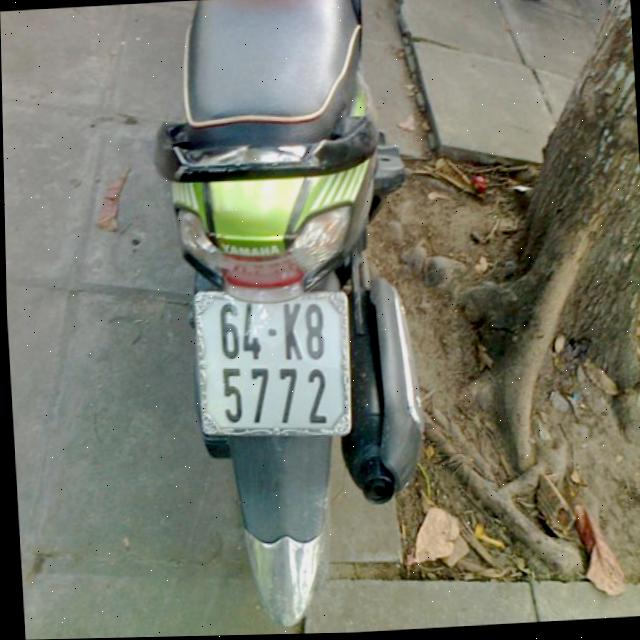motorcycle: (143, 0, 444, 637)
plate: (183, 278, 360, 450)
